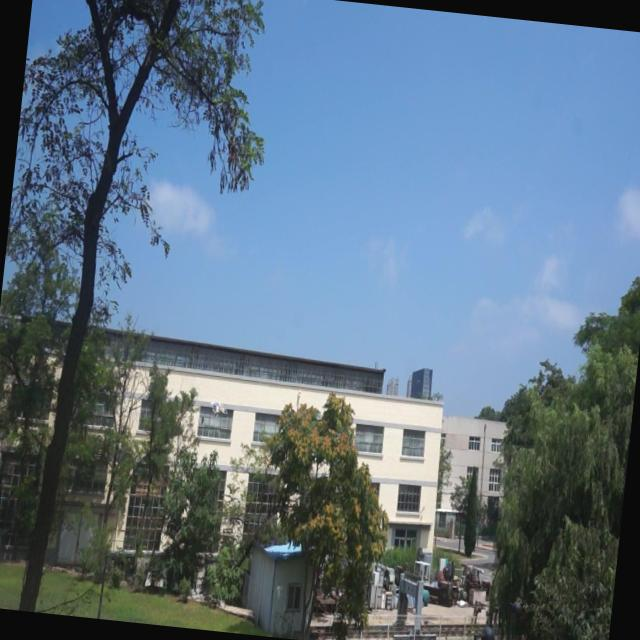drone: (206, 394, 228, 421)
